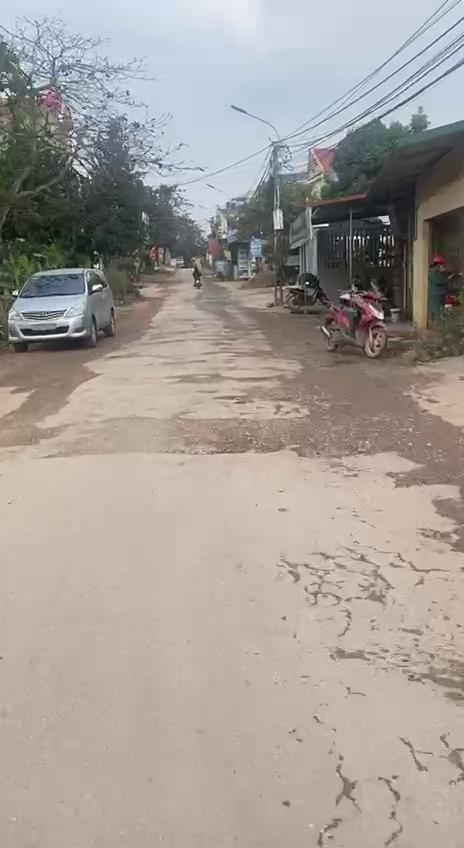pothole: (70, 408, 374, 457), (0, 356, 93, 452), (391, 461, 464, 559)
